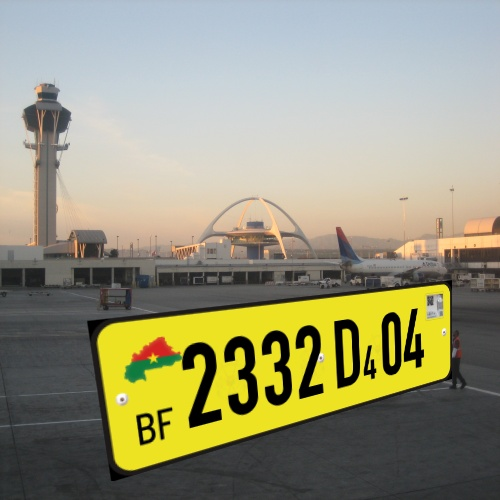plate: (63, 271, 469, 485)
